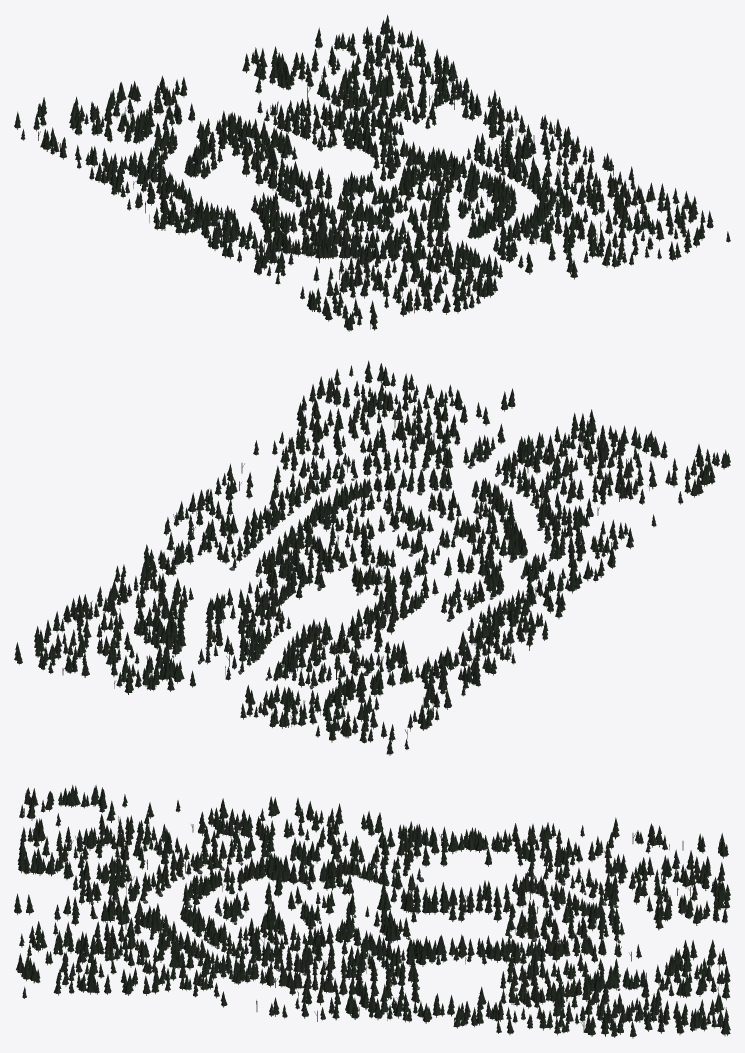
File: PL_Forest_Chunks.fbx
3 views of the same model, one above another, from view 1: azimuth 30°, elevation 25°; view 2: azimuth 150°, elevation 25°; view 3: azimuth 270°, elevation 25° (orthographic). The views are drawn at different scales.
Visible parts, largest first — view 1: PL_ForestChunk_2_13, PL_ForestChunk_-2_9, PL_ForestChunk_-3_5, PL_ForestChunk_1_15, PL_ForestChunk_1_10, PL_ForestChunk_1_9, PL_ForestChunk_3_12, PL_ForestChunk_1_2, PL_ForestChunk_-2_1, PL_ForestChunk_1_8, PL_ForestChunk_-2_10, PL_ForestChunk_-2_8 (+17 smaller); view 2: PL_ForestChunk_1_2, PL_ForestChunk_1_11, PL_ForestChunk_-3_5, PL_ForestChunk_-4_4, PL_ForestChunk_1_8, PL_ForestChunk_-3_3, PL_ForestChunk_3_5, PL_ForestChunk_-2_9, PL_ForestChunk_2_13, PL_ForestChunk_-3_12, PL_ForestChunk_-2_10, PL_ForestChunk_1_10 (+6 smaller); view 3: PL_ForestChunk_-4_4, PL_ForestChunk_-2_10, PL_ForestChunk_2_6, PL_ForestChunk_-3_3, PL_ForestChunk_2_8, PL_ForestChunk_1_9, PL_ForestChunk_-2_9, PL_ForestChunk_-5_8, PL_ForestChunk_2_5, PL_ForestChunk_-5_10, PL_ForestChunk_1_2, PL_ForestChunk_4_3 (+77 smaller).
Boxes of the visible parts, x1,y1,x2,y2 form: PL_ForestChunk_2_13: [331, 70, 376, 113]; PL_ForestChunk_-2_9: [268, 161, 313, 199]; PL_ForestChunk_-3_5: [310, 213, 351, 247]; PL_ForestChunk_1_15: [254, 58, 294, 93]; PL_ForestChunk_1_10: [352, 121, 397, 158]; PL_ForestChunk_1_9: [373, 136, 417, 172]; PL_ForestChunk_3_12: [380, 82, 431, 118]; PL_ForestChunk_1_2: [507, 210, 553, 241]; PL_ForestChunk_-2_1: [425, 247, 473, 278]; PL_ForestChunk_1_8: [387, 146, 429, 184]; PL_ForestChunk_-2_10: [250, 147, 292, 185]; PL_ForestChunk_-2_8: [285, 172, 332, 207]; PL_ForestChunk_1_2: [409, 424, 450, 469]; PL_ForestChunk_1_11: [230, 585, 276, 626]; PL_ForestChunk_-3_5: [489, 521, 527, 562]; PL_ForestChunk_-4_4: [544, 506, 585, 546]; PL_ForestChunk_1_8: [286, 543, 333, 586]; PL_ForestChunk_-3_3: [534, 477, 576, 520]; PL_ForestChunk_3_5: [284, 471, 326, 508]; PL_ForestChunk_-2_9: [378, 581, 420, 619]; PL_ForestChunk_2_13: [156, 617, 186, 656]; PL_ForestChunk_-3_12: [349, 647, 395, 676]; PL_ForestChunk_-2_10: [357, 602, 399, 634]; PL_ForestChunk_1_10: [254, 567, 296, 607]; PL_ForestChunk_-4_4: [204, 815, 249, 865]; PL_ForestChunk_-2_10: [448, 880, 492, 922]; PL_ForestChunk_2_6: [285, 939, 332, 976]; PL_ForestChunk_-3_3: [165, 832, 207, 875]; PL_ForestChunk_2_8: [368, 948, 413, 986]; PL_ForestChunk_1_9: [410, 934, 454, 966]; PL_ForestChunk_-2_9: [411, 882, 452, 914]; PL_ForestChunk_-5_8: [374, 828, 413, 866]; PL_ForestChunk_2_5: [250, 932, 291, 971]; PL_ForestChunk_-5_10: [447, 829, 495, 866]; PL_ForestChunk_1_2: [123, 901, 167, 937]; PL_ForestChunk_4_3: [165, 957, 209, 991].
Bounding box in the file's own units: 36464 × 6613 × 55995.
Materials: 3 (3 with a texture image).
